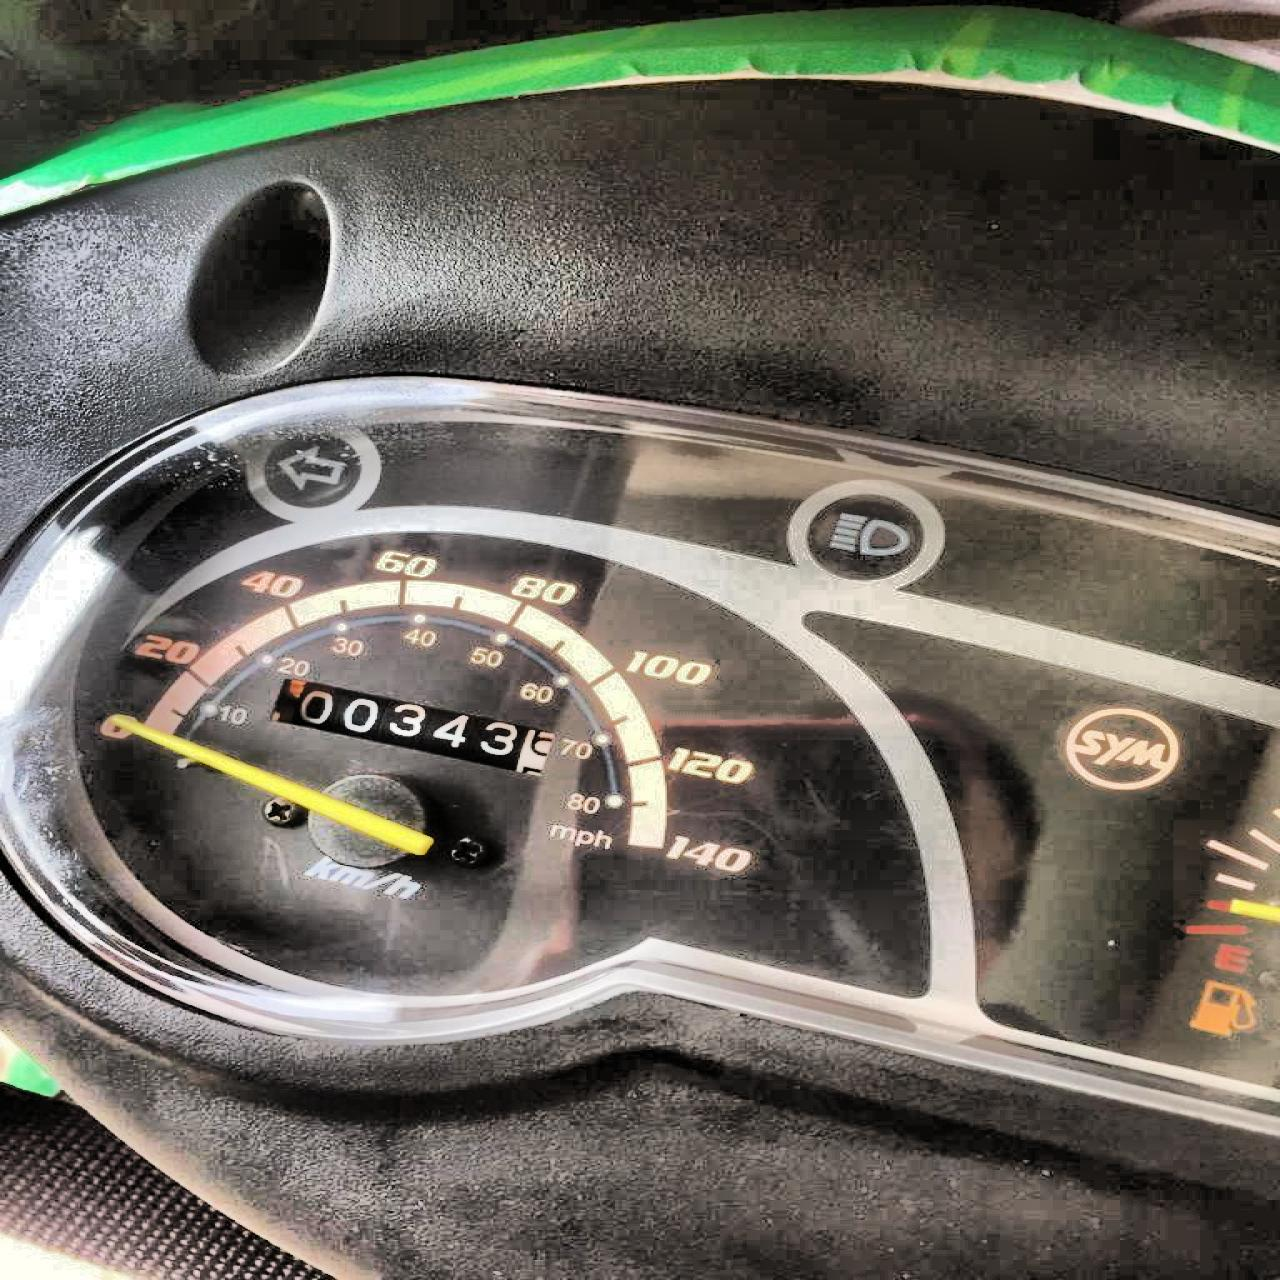0: (294, 687, 333, 724), (339, 696, 379, 733), (536, 683, 552, 701)
3: (478, 719, 518, 756), (387, 701, 425, 736)
4: (430, 712, 470, 748)
6: (526, 728, 553, 757), (517, 681, 536, 699)
odometer: (260, 674, 557, 779)
